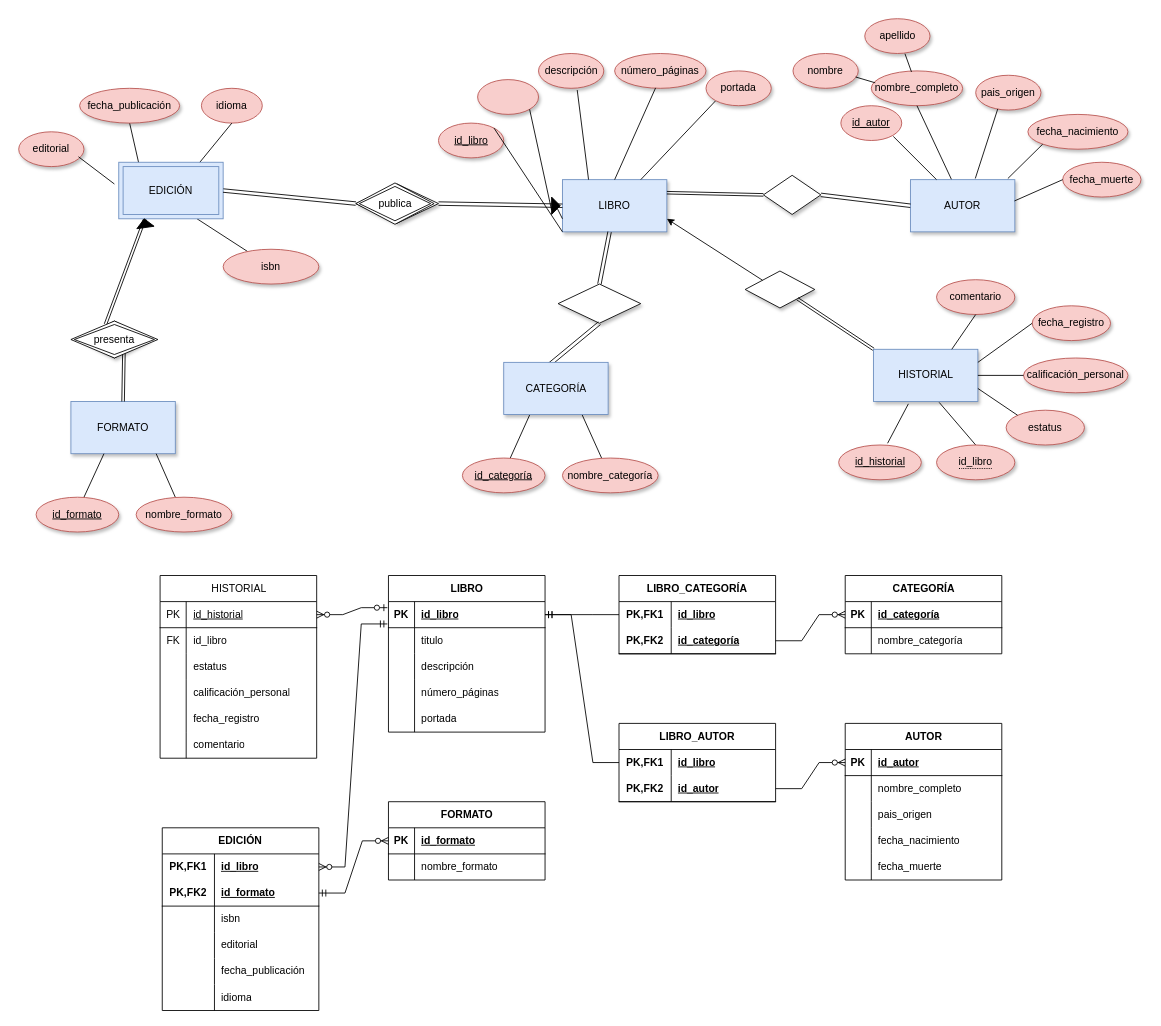
Some shapes in this 1161 by 1026 pixel diagram are drawn without their labels. The shapes that lost their labels are listed below. From the top down, each one's centre as x and y in pixels, then its label:
At (x=508, y=97): "título".
At (x=792, y=196): "escribe".
At (x=600, y=304): "clasifica".
At (x=780, y=290): "registra".
